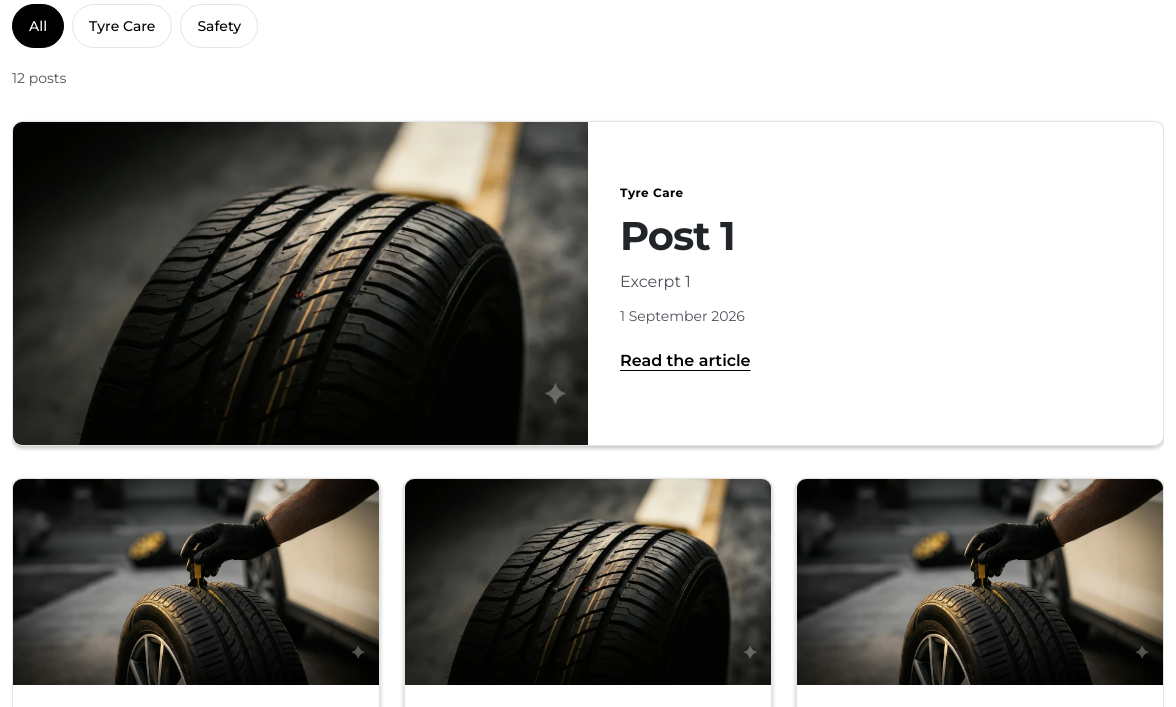
Test: ContentExplorer › filters by category chip, marks it pressed, and drops the featured card
The width and height of the screenshot is (1176, 707).
What coordinates should you click on to do the following:
click the button "safety"
I would click on:
 (219, 26)
Its box is 180,4 -> 258,48.
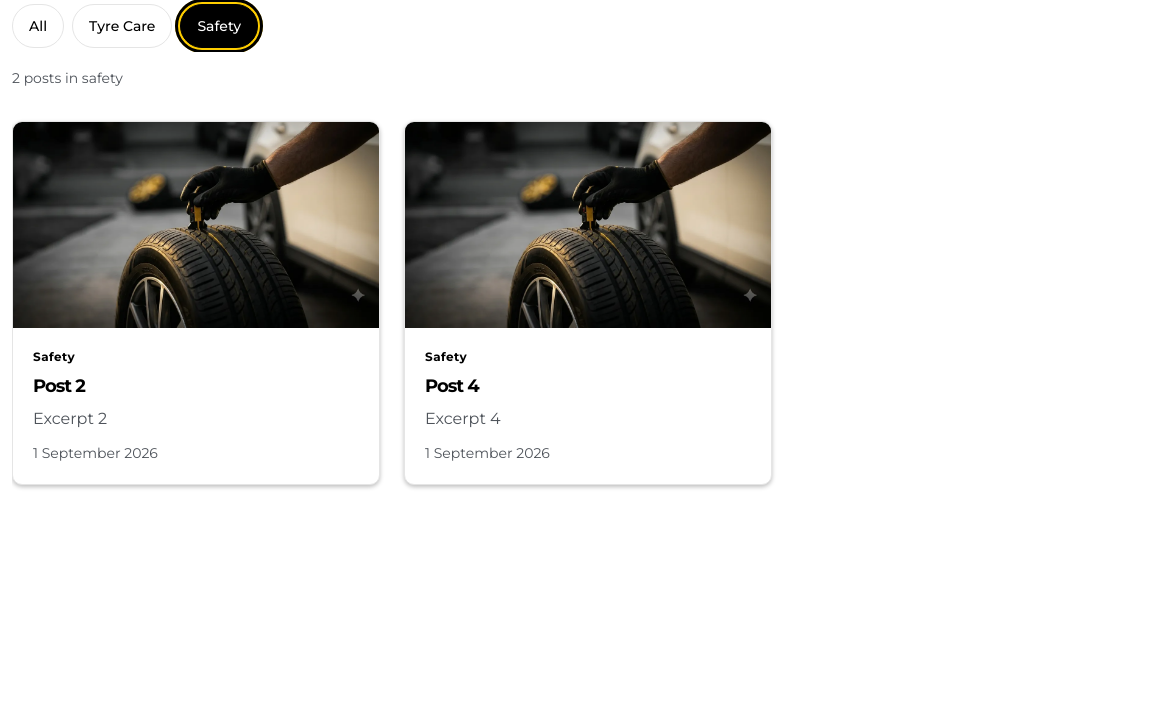
Expected: the heading "Post 2" is shown, 33,375 -> 85,397
Expected: the text "2 posts in safety" is shown, 12,69 -> 123,87
